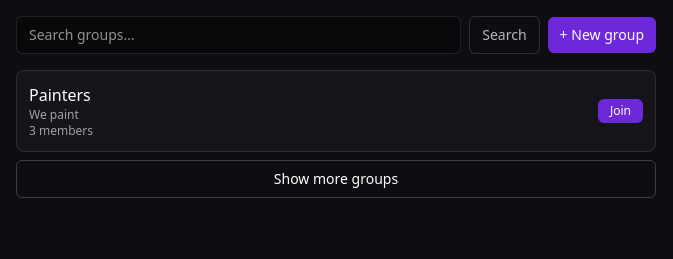
GroupsPage › shows more groups a page at a time, without repeating any
Click the button "Show more groups".
click(336, 179)  # box [16, 160, 656, 198]
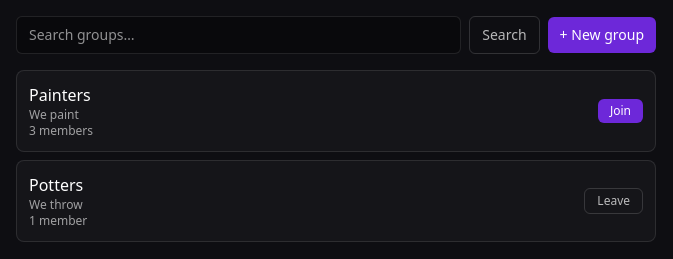
Expected: the number of links "Painters" is 1, [29, 84, 91, 106]
Expected: the link "Potters" is shown, [29, 174, 83, 196]
Expected: the button "Show more groups" is gone
